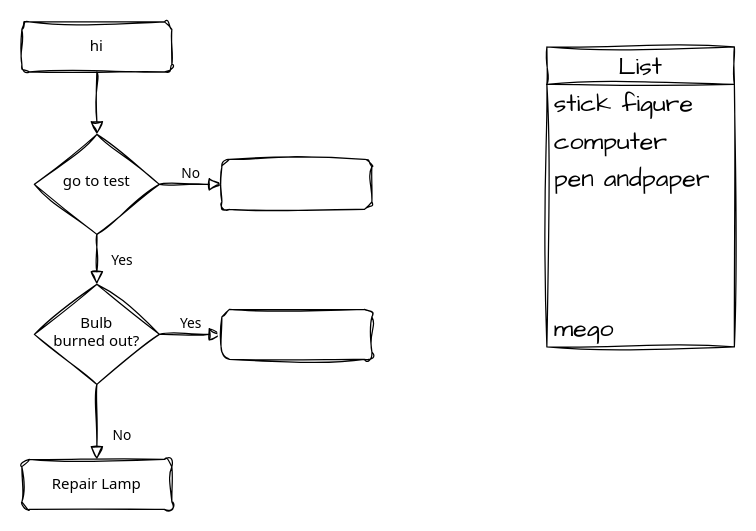
Some shapes in this 756 by 531 pixel diagram are drawn without their labels. The box of each missing label's shape, as (x1, y1, x2, y2) in pixels:
end: (221, 158, 372, 209)
Replace Bulb: (221, 308, 372, 359)
